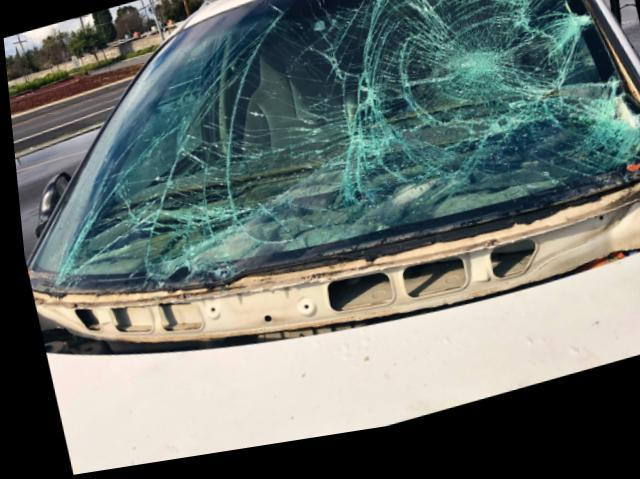glass shatter: (22, 0, 640, 295)
no part: (26, 199, 640, 352)
